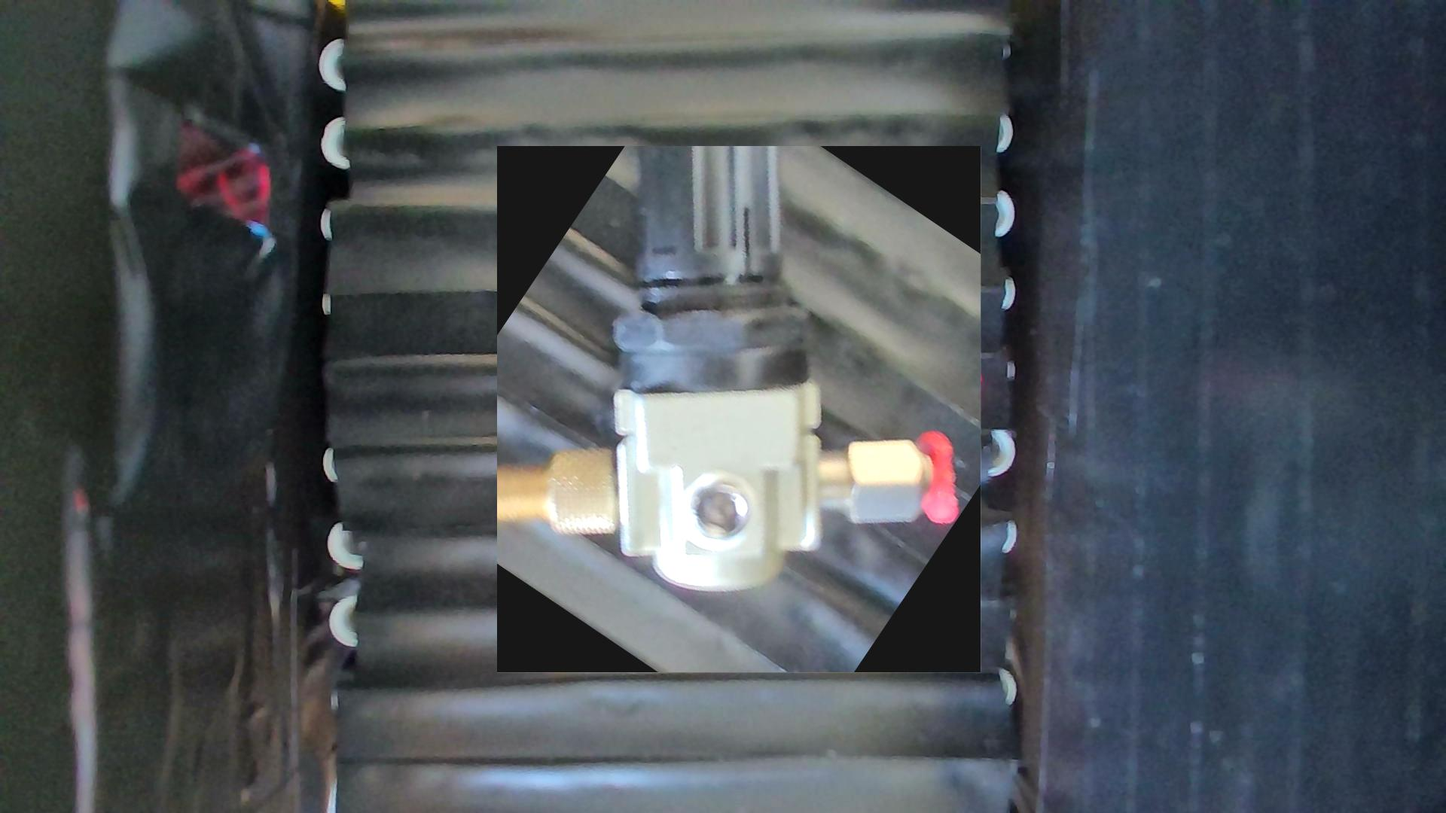regulator: (498, 147, 982, 674)
